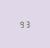nine: (19, 20, 24, 28)
three: (25, 19, 30, 27)
